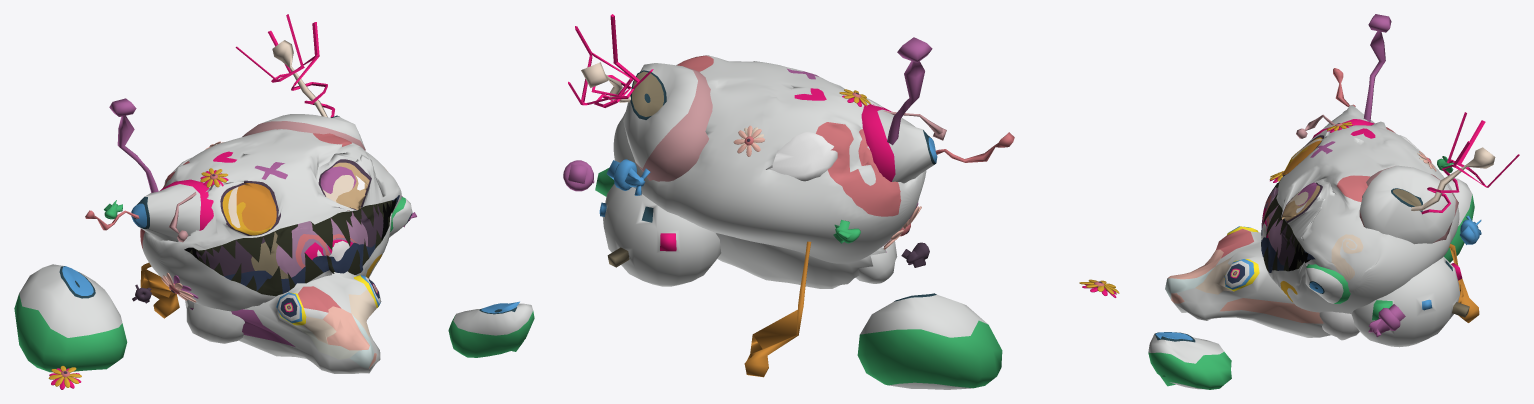
File: Octopus.fbx
3 renders of one model, left to right at view 1: azimuth 30°, elevation 25°; view 2: azimuth 150°, elevation 25°; view 3: azimuth 270°, elevation 25°, orthographic. The views are drawn at different scales.
Parts seen in each view (by area): view 1: Sphere; view 2: Sphere; view 3: Sphere.
Boxes of the visible parts, left/top/right/bottom form: Sphere: left=14, top=14, right=534, bottom=389; Sphere: left=563, top=14, right=1119, bottom=389; Sphere: left=1148, top=14, right=1519, bottom=389.
Size of what is drawn, in the model's own units: 1483 by 917 by 1154.
